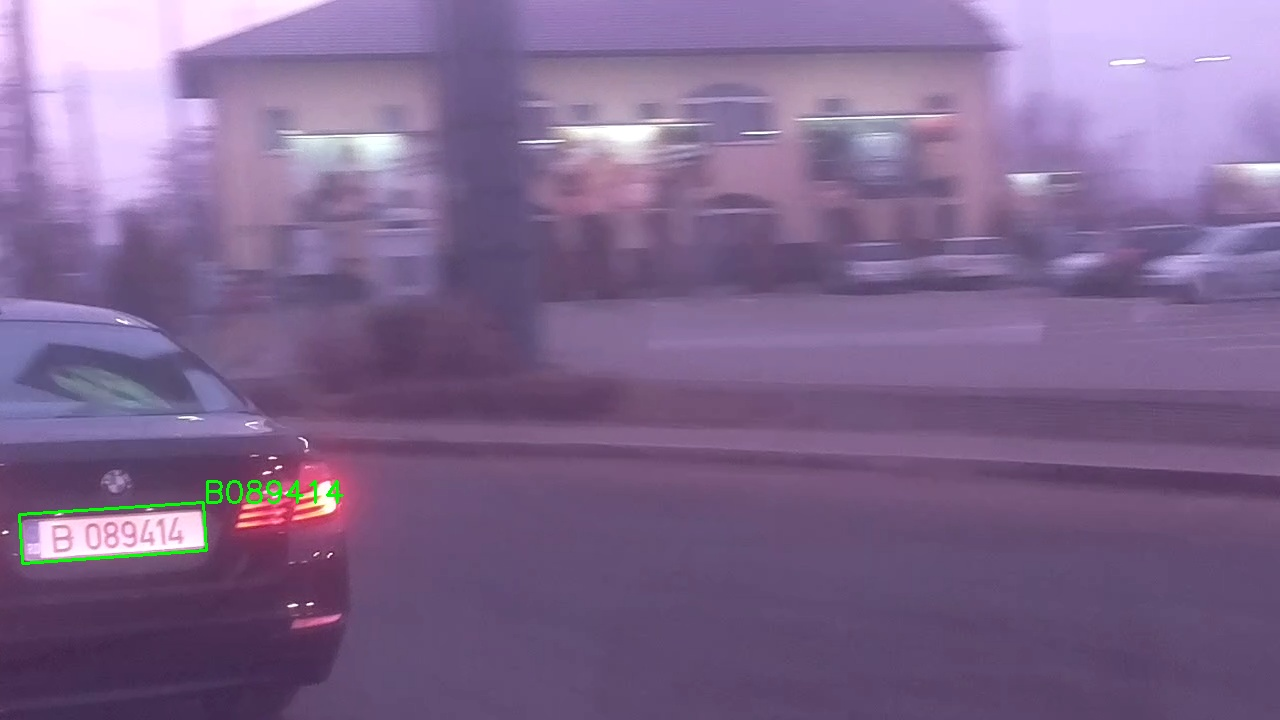license-plate: (18, 502, 208, 564)
